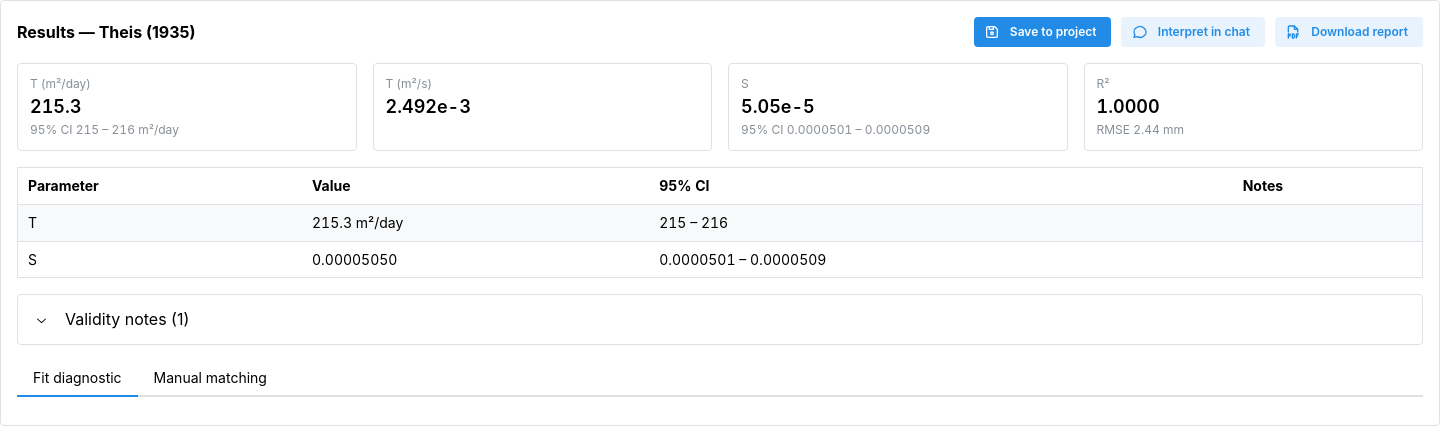
Test: the results › saves the analysis to the project, once
Click the button "Save to project": (1042, 32) [974,17,1112,47]
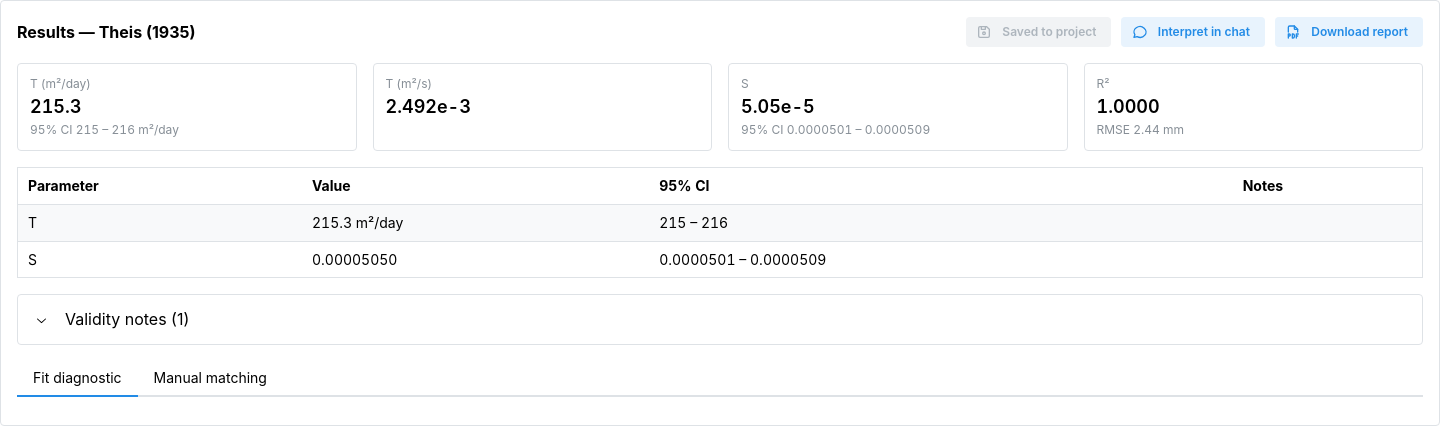
Expected: the button "Saved to project" is disabled, [966,17,1112,47]
